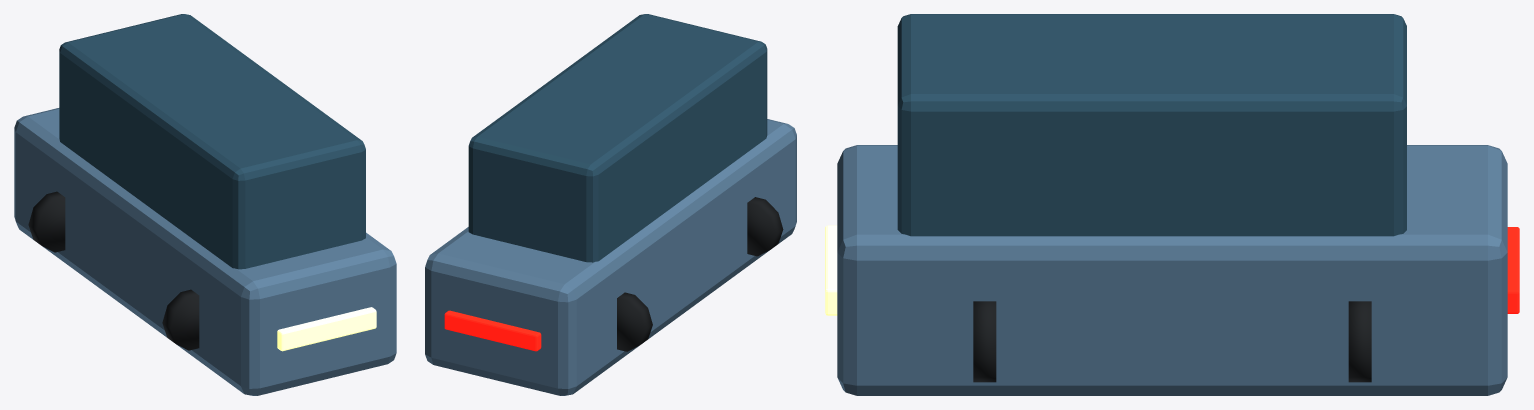
File: bus_city.glb
3 renders of one model, left to right at view 1: azimuth 30°, elevation 25°; view 2: azimuth 150°, elevation 25°; view 3: azimuth 270°, elevation 25°, orthographic. The views are drawn at different scales.
Visible parts, largest first — view 1: vehicle_cabin, vehicle_body, headlights, vehicle_wheel.001, vehicle_wheel; view 2: vehicle_cabin, vehicle_body, taillights, vehicle_wheel.001, vehicle_wheel; view 3: vehicle_body, vehicle_cabin, vehicle_wheel.002, vehicle_wheel.003, headlights, taillights.
Part boxes in pixels (box(x1,y1,x2,y2)): vehicle_cabin: box(59, 14, 365, 269); vehicle_body: box(14, 108, 396, 395); headlights: box(277, 307, 376, 351); vehicle_wheel.001: box(162, 289, 199, 350); vehicle_wheel: box(28, 191, 65, 252); vehicle_cabin: box(468, 14, 767, 262); vehicle_body: box(425, 119, 796, 395); taillights: box(444, 310, 541, 351); vehicle_wheel.001: box(747, 197, 783, 256); vehicle_wheel: box(617, 292, 652, 351); vehicle_body: box(837, 145, 1507, 395); vehicle_cabin: box(897, 14, 1406, 236); vehicle_wheel.002: box(1348, 301, 1371, 382); vehicle_wheel.003: box(973, 301, 996, 382); headlights: box(825, 225, 837, 315); taillights: box(1507, 227, 1519, 313).
Size of the model in its own units: 0.522 by 0.4982 by 1.06.
